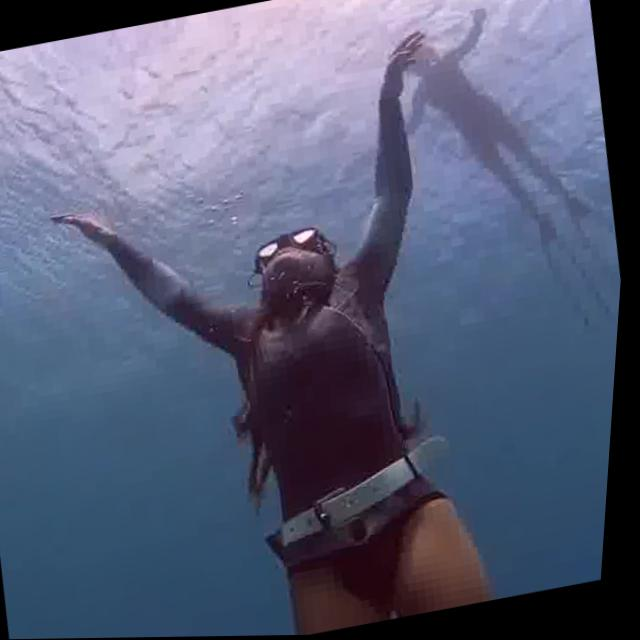human: (0, 3, 560, 640), (364, 0, 610, 261)
